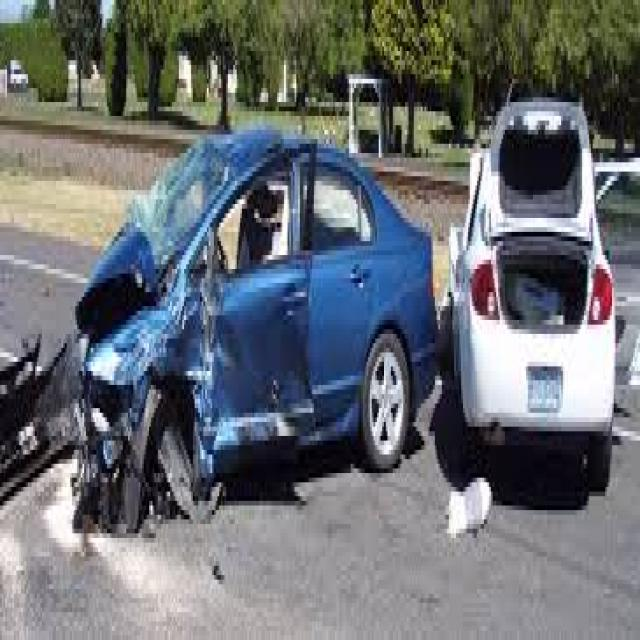accident: (67, 136, 441, 528), (458, 91, 624, 522)
